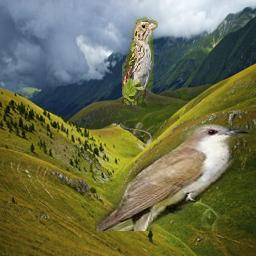Cuckoo: (96, 125, 251, 232)
Sparrow: (122, 15, 158, 105)
